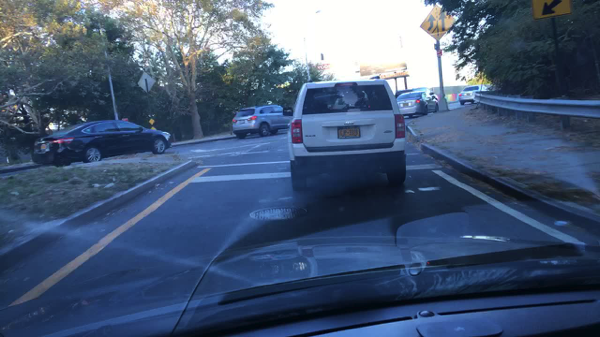car: (286, 75, 407, 191), (31, 119, 172, 166), (232, 104, 292, 139), (395, 90, 439, 118), (393, 88, 437, 103), (458, 86, 487, 105)
traffic sign: (419, 4, 458, 42), (529, 0, 572, 21), (137, 71, 156, 93), (148, 118, 154, 125)
